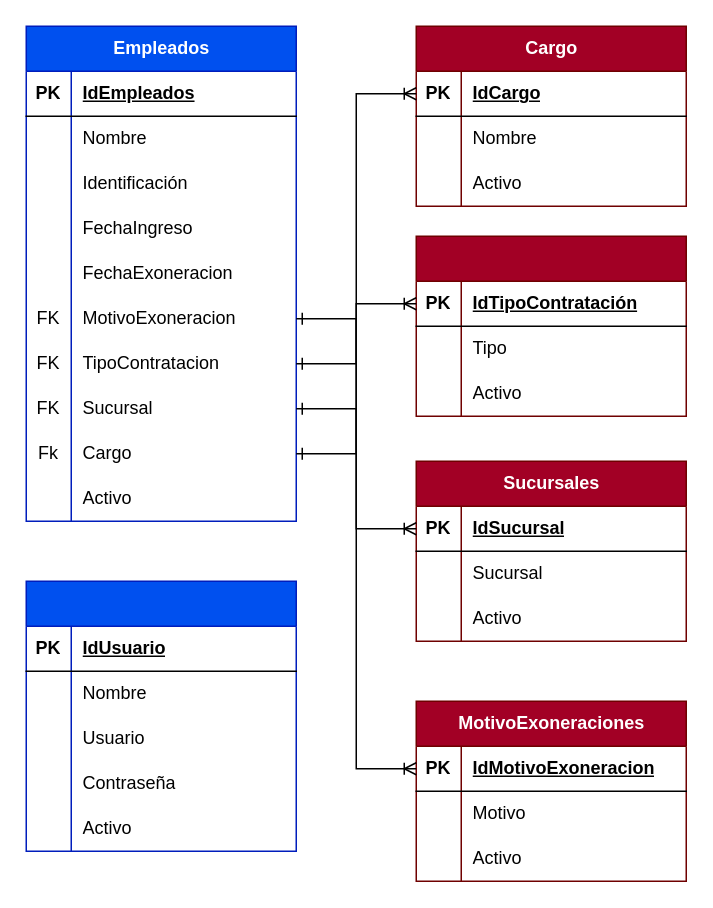
Image size: 713x908. Some labels were removed from this diagram. Here are the shapes that lost their labels. From the top down, the box of each, then its label:
(415, 235, 686, 416): TipoContrataciones
(25, 580, 296, 851): Usuarios
